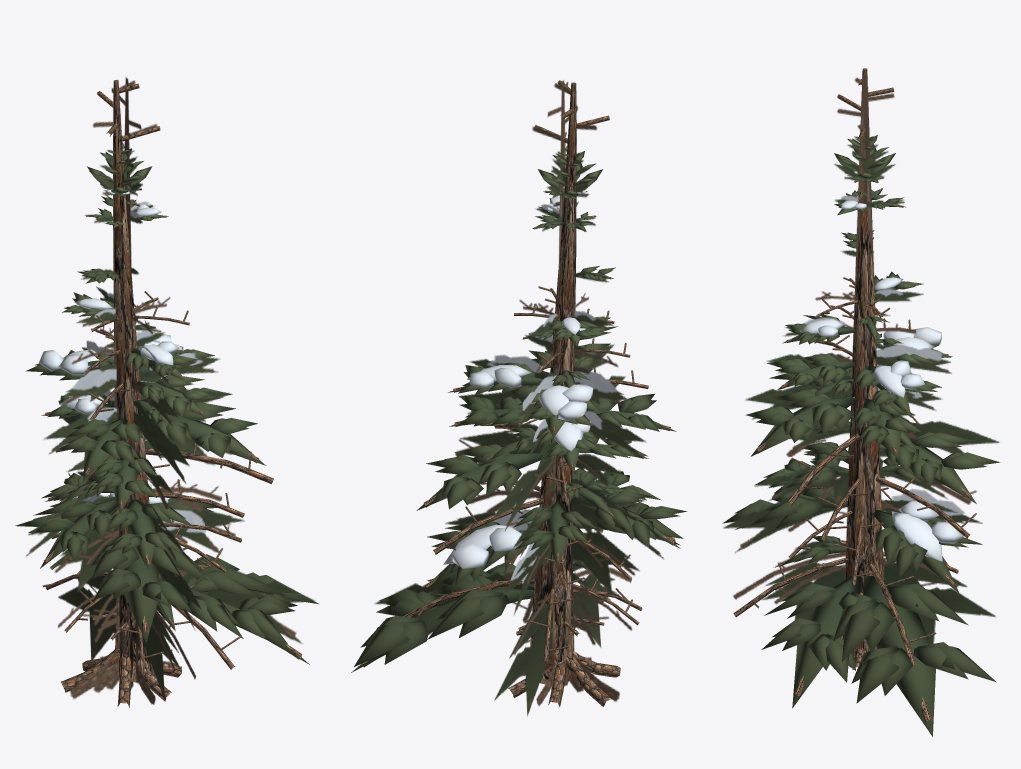
Rendered from tree18.glb.
The picture shows the model from 3 angles, left to right: view 1: azimuth 30°, elevation 25°; view 2: azimuth 150°, elevation 25°; view 3: azimuth 270°, elevation 25°; orthographic projection. The views are drawn at different scales.
Visible parts, largest first — view 1: Alpine18_1, Empty.004, Alpine18_0, Alpine18_2; view 2: Alpine18_1, Empty.004, Alpine18_0, Alpine18_2; view 3: Alpine18_1, Empty.004, Alpine18_0, Alpine18_2.
Part boxes in pixels (x1,y1,x2,y2): Alpine18_1: [15, 148, 319, 664]; Empty.004: [26, 77, 314, 704]; Alpine18_0: [42, 80, 302, 707]; Alpine18_2: [39, 189, 183, 503]; Alpine18_1: [351, 151, 687, 672]; Empty.004: [374, 80, 663, 716]; Alpine18_0: [361, 80, 675, 706]; Alpine18_2: [443, 190, 592, 568]; Alpine18_1: [722, 135, 1000, 736]; Empty.004: [723, 73, 999, 644]; Alpine18_0: [733, 68, 976, 721]; Alpine18_2: [799, 171, 963, 561].
Size of the model in its own units: 6.93 by 13.7 by 6.02.
4 materials, 2 textured.
